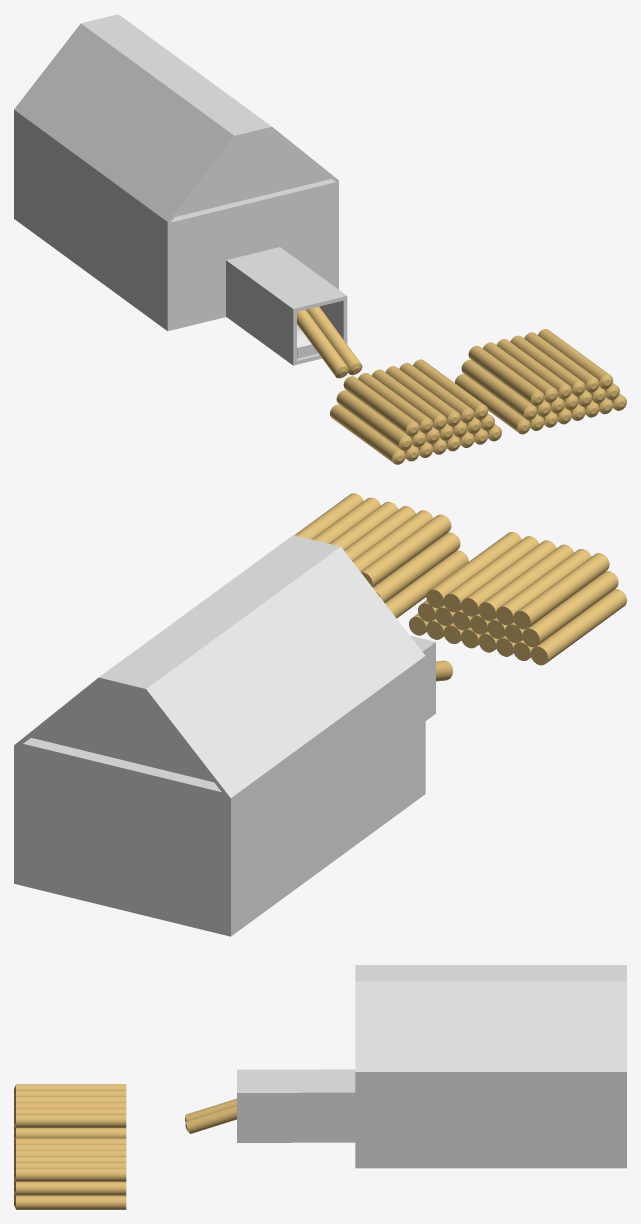
The model's file is Lumber Yard.fbx.
3 views of the same model, one above another, from view 1: azimuth 30°, elevation 25°; view 2: azimuth 150°, elevation 25°; view 3: azimuth 270°, elevation 25° (orthographic). The views are drawn at different scales.
Visible parts, largest first — view 1: Cube.001, Cube, Tree.021, Tree.041, Tree.015, Tree.035, Tree.007, Tree.028, Tree.043, Tree.042, Tree.037, Tree.018 (+8 smaller); view 2: Cube.001, Tree.021, Tree.015, Tree.007, Tree.041, Tree.035, Tree.028, Tree.018, Tree.017, Tree.019, Tree.016, Tree.020 (+6 smaller); view 3: Cube.001, Cube, Tree.029, Tree.016, Tree.036, Tree.008, Tree.009, Tree.018, Tree.019, Tree.020, Tree.021, Tree.040 (+7 smaller).
Part boxes in pixels (<box>): Cube.001: <box>14,14,338,331</box>; Cube: <box>226,247,347,365</box>; Tree.021: <box>343,376,419,436</box>; Tree.041: <box>468,345,544,405</box>; Tree.015: <box>336,390,412,450</box>; Tree.035: <box>461,360,537,419</box>; Tree.007: <box>330,404,405,464</box>; Tree.028: <box>455,374,530,434</box>; Tree.043: <box>297,310,349,378</box>; Tree.042: <box>306,306,362,375</box>; Tree.037: <box>524,332,599,392</box>; Tree.018: <box>385,366,460,426</box>; Cube.001: <box>14,535,425,936</box>; Tree.021: <box>513,553,609,629</box>; Tree.015: <box>522,571,618,647</box>; Tree.007: <box>530,589,626,665</box>; Tree.041: <box>360,514,451,587</box>; Tree.035: <box>373,532,460,602</box>; Tree.028: <box>385,550,468,618</box>; Tree.018: <box>461,540,556,616</box>; Tree.017: <box>443,536,538,612</box>; Tree.019: <box>478,544,573,620</box>; Tree.016: <box>426,532,521,608</box>; Tree.020: <box>496,549,591,625</box>; Cube.001: <box>355,965,626,1168</box>; Cube: <box>237,1069,355,1142</box>; Tree.029: <box>14,1181,126,1195</box>; Tree.016: <box>14,1114,126,1127</box>; Tree.036: <box>14,1168,126,1181</box>; Tree.008: <box>14,1196,126,1209</box>; Tree.009: <box>14,1128,126,1139</box>; Tree.018: <box>14,1102,126,1111</box>; Tree.019: <box>14,1096,126,1105</box>; Tree.020: <box>14,1090,126,1099</box>; Tree.021: <box>14,1084,126,1093</box>; Tree.040: <box>14,1144,126,1153</box>.
Bounding box in the file's own units: 312 × 203 × 702.
